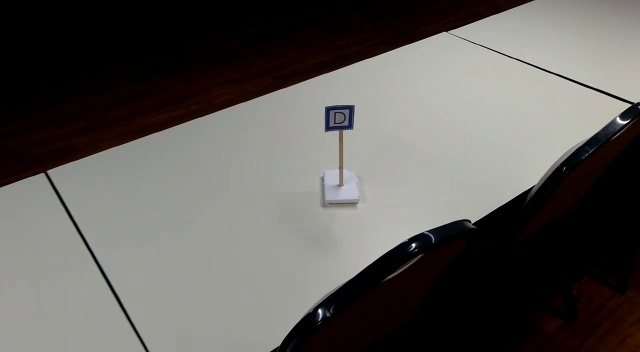durak: (323, 104, 355, 131)
